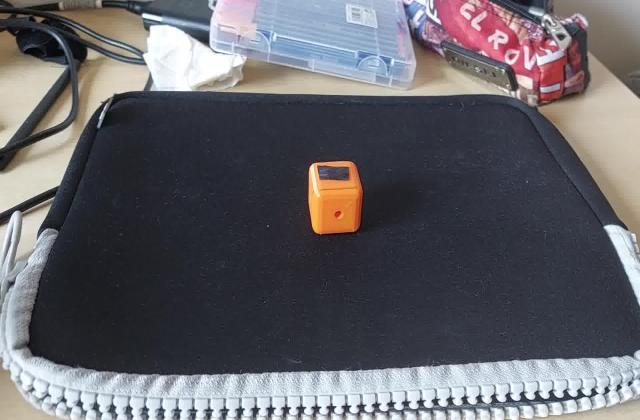cube: (302, 159, 366, 237)
